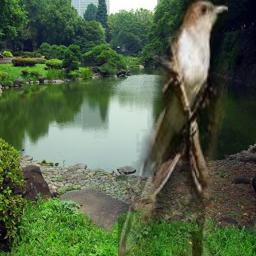Cuckoo: (118, 0, 228, 256)
